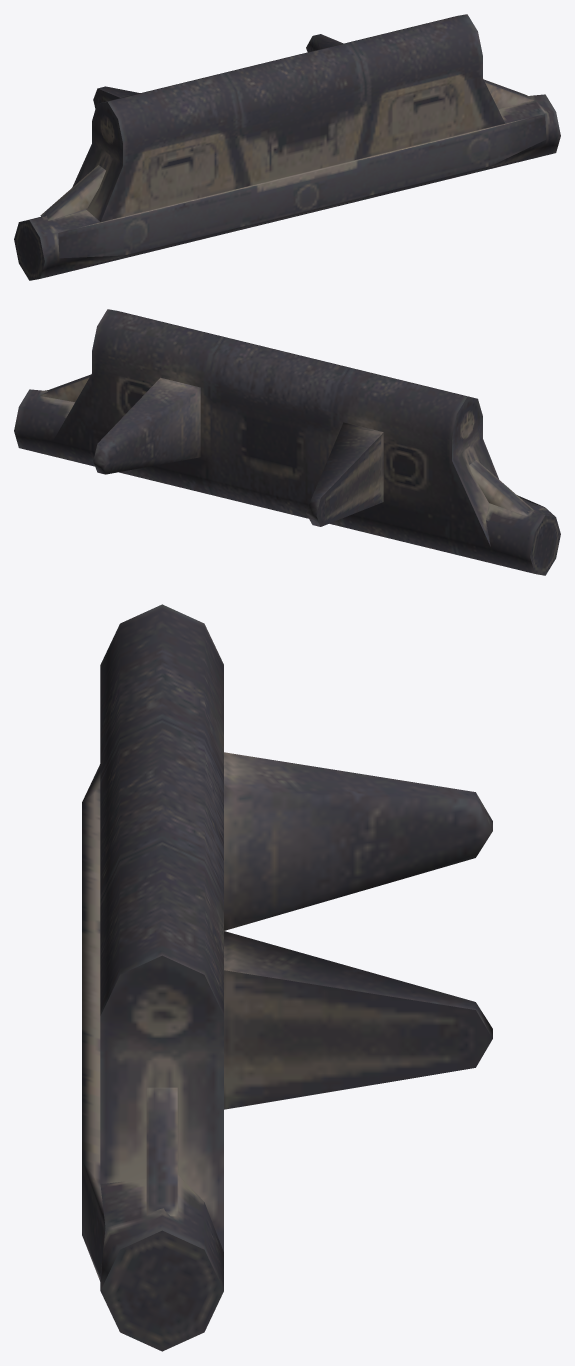
3 views of the same model, one above another, from view 1: azimuth 30°, elevation 25°; view 2: azimuth 150°, elevation 25°; view 3: azimuth 270°, elevation 25° (orthographic). The views are drawn at different scales.
Parts seen in each view (by area): view 1: set_0_group_0; view 2: set_0_group_0; view 3: set_0_group_0.
Boxes of the visible parts, x1,y1,x2,y2 form: set_0_group_0: (14,14,560,280); set_0_group_0: (14,309,560,575); set_0_group_0: (82,604,492,1351).
Bounding box in the file's own units: 0.241 × 0.0713 × 0.083.
Materials: 1 (1 with a texture image).
